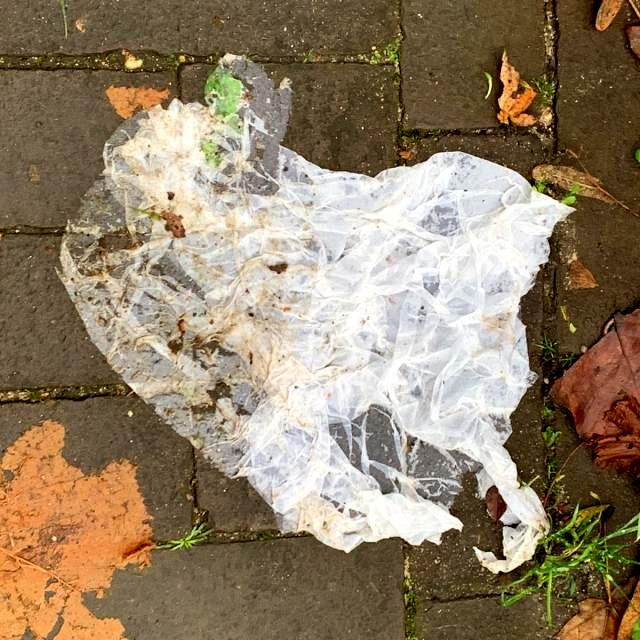Paper: (51, 49, 577, 578)
